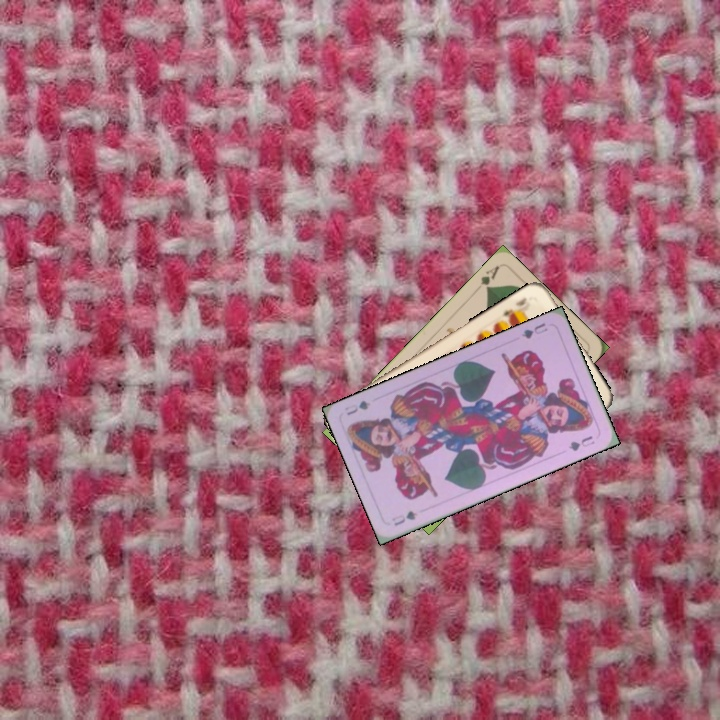E10: (499, 293, 529, 323)
GA: (476, 261, 502, 294)
GU: (518, 318, 550, 342), (388, 507, 420, 529)
